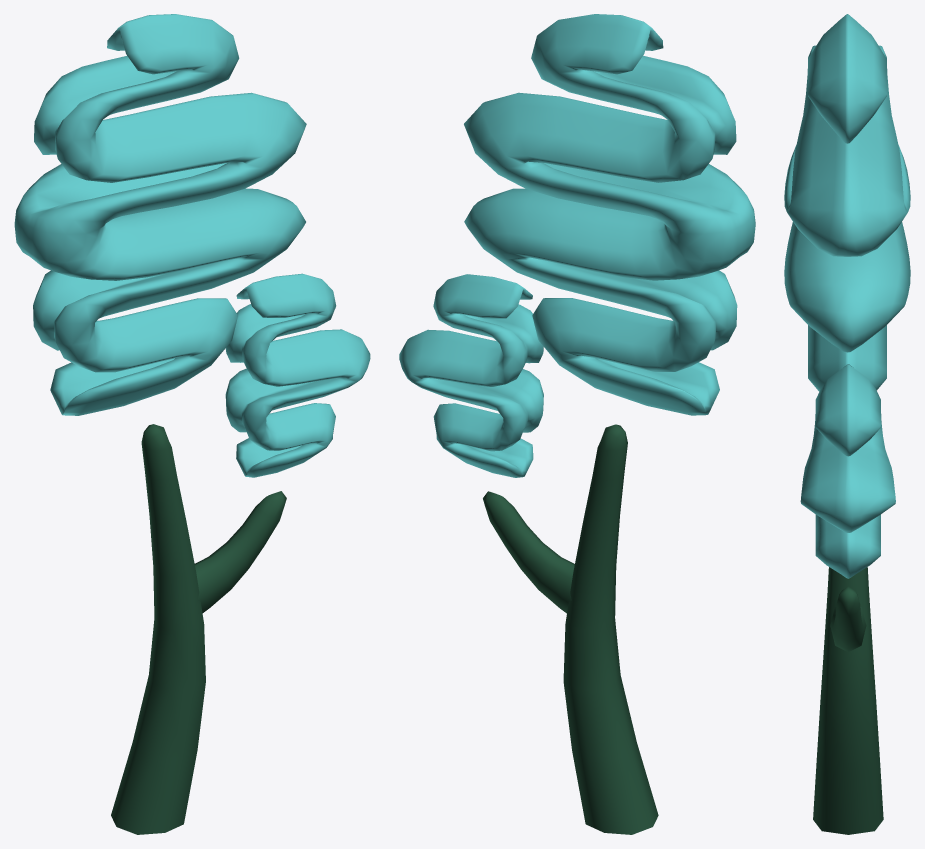
Rendered from Tree Floating-sdtjU7iczl.glb.
The picture shows the model from 3 angles, left to right: view 1: azimuth 30°, elevation 25°; view 2: azimuth 150°, elevation 25°; view 3: azimuth 270°, elevation 25°; orthographic projection.
Parts seen in each view (by area): view 1: Tree_Floating_2; view 2: Tree_Floating_2; view 3: Tree_Floating_2.
Part boxes in pixels (x1=…): Tree_Floating_2: x1=14, y1=14, x2=370, y2=834; Tree_Floating_2: x1=399, y1=14, x2=755, y2=834; Tree_Floating_2: x1=784, y1=14, x2=910, y2=834.
Bounding box in the file's own units: 2.63 × 5.87 × 0.843.
Materials: 1 (1 with a texture image).
